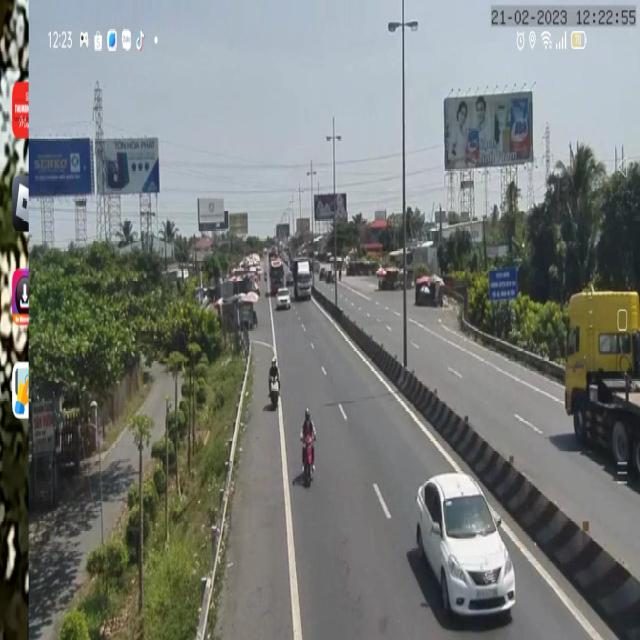bus: (268, 255, 284, 298)
car: (411, 473, 518, 628), (276, 291, 292, 311)
motorbike: (299, 407, 317, 490), (267, 357, 283, 409)
truck: (561, 280, 640, 501), (292, 259, 314, 302)
